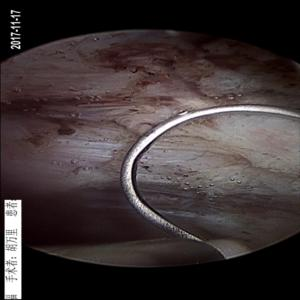film: (25, 42, 279, 157)
